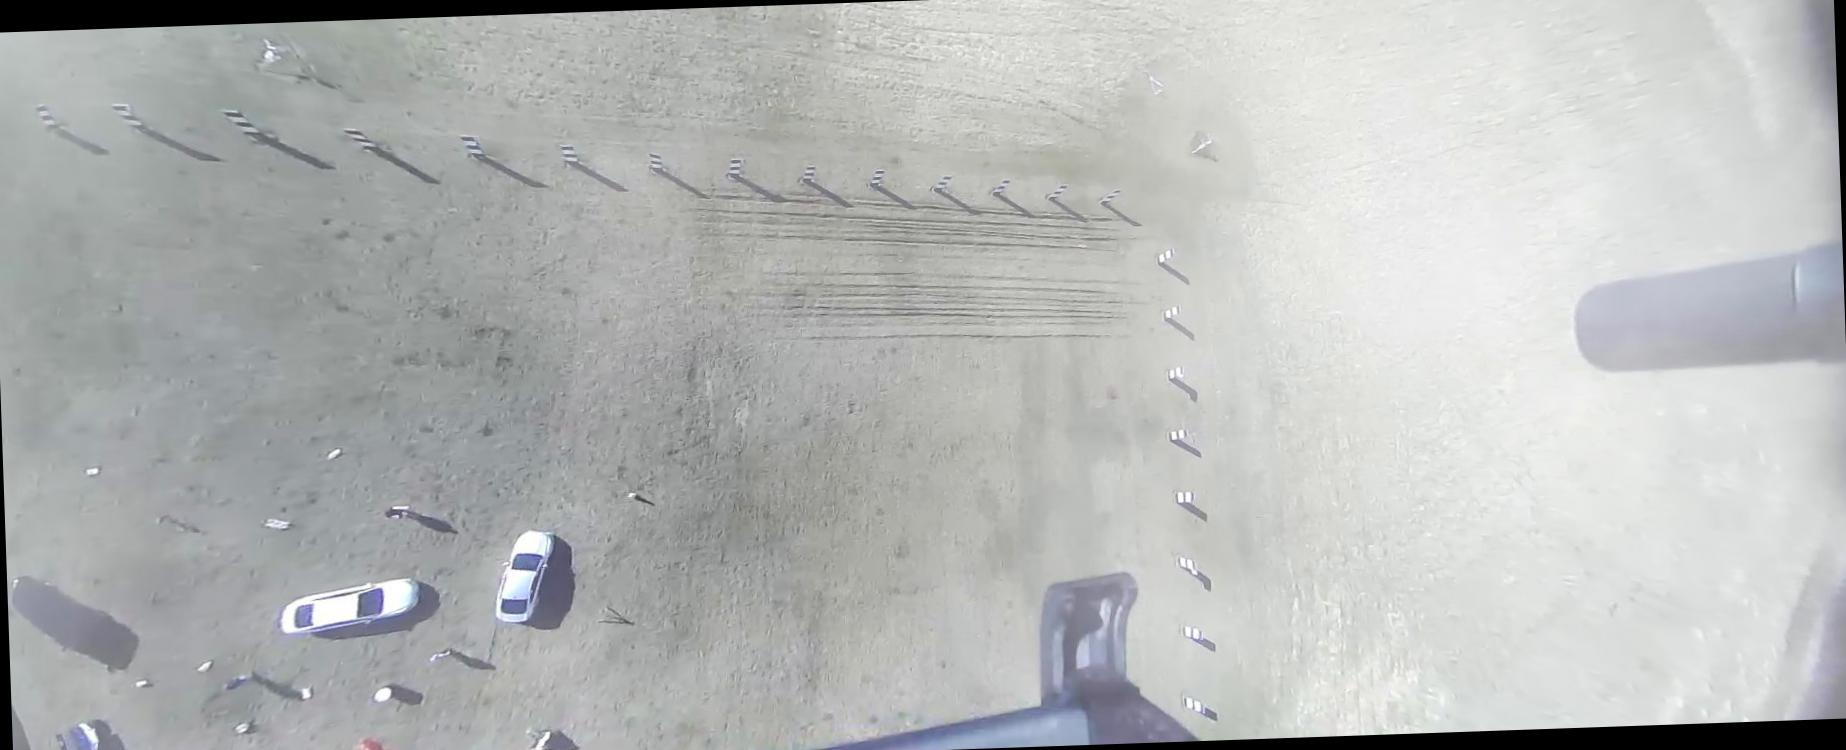vehicle: (7, 571, 121, 659), (277, 576, 421, 636), (491, 529, 557, 623), (55, 721, 104, 749)
